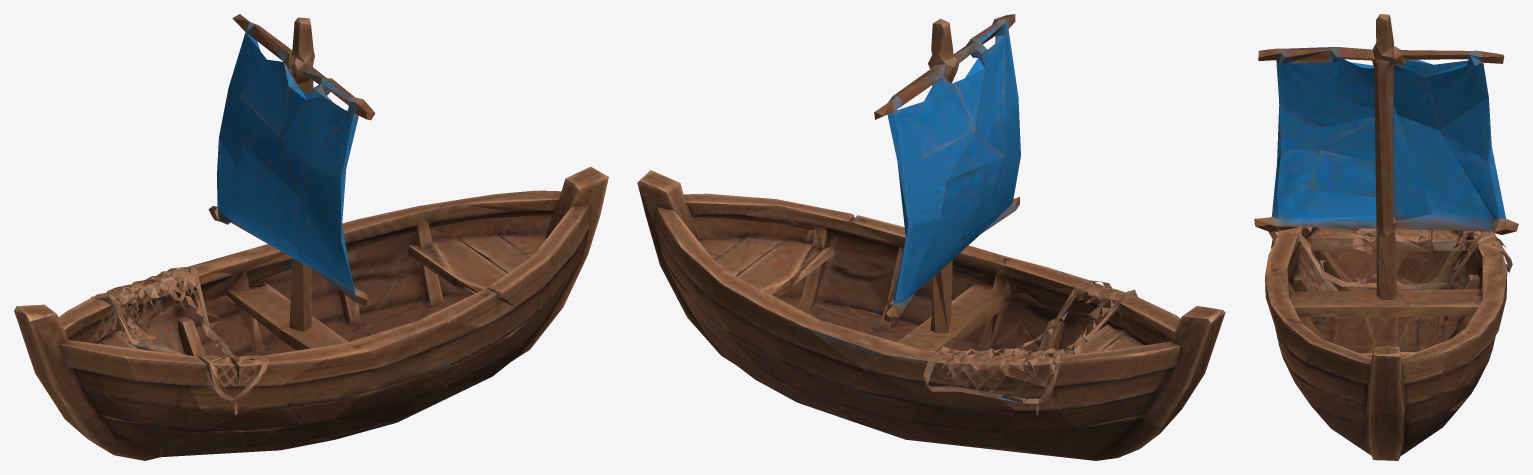
The model's file is fishboat.glb.
The picture shows the model from 3 angles, left to right: view 1: azimuth 30°, elevation 25°; view 2: azimuth 150°, elevation 25°; view 3: azimuth 270°, elevation 25°; orthographic projection. The views are drawn at different scales.
Size of the model in its own units: 1.9 by 1.25 by 0.8228.
1 material, 1 textured.
